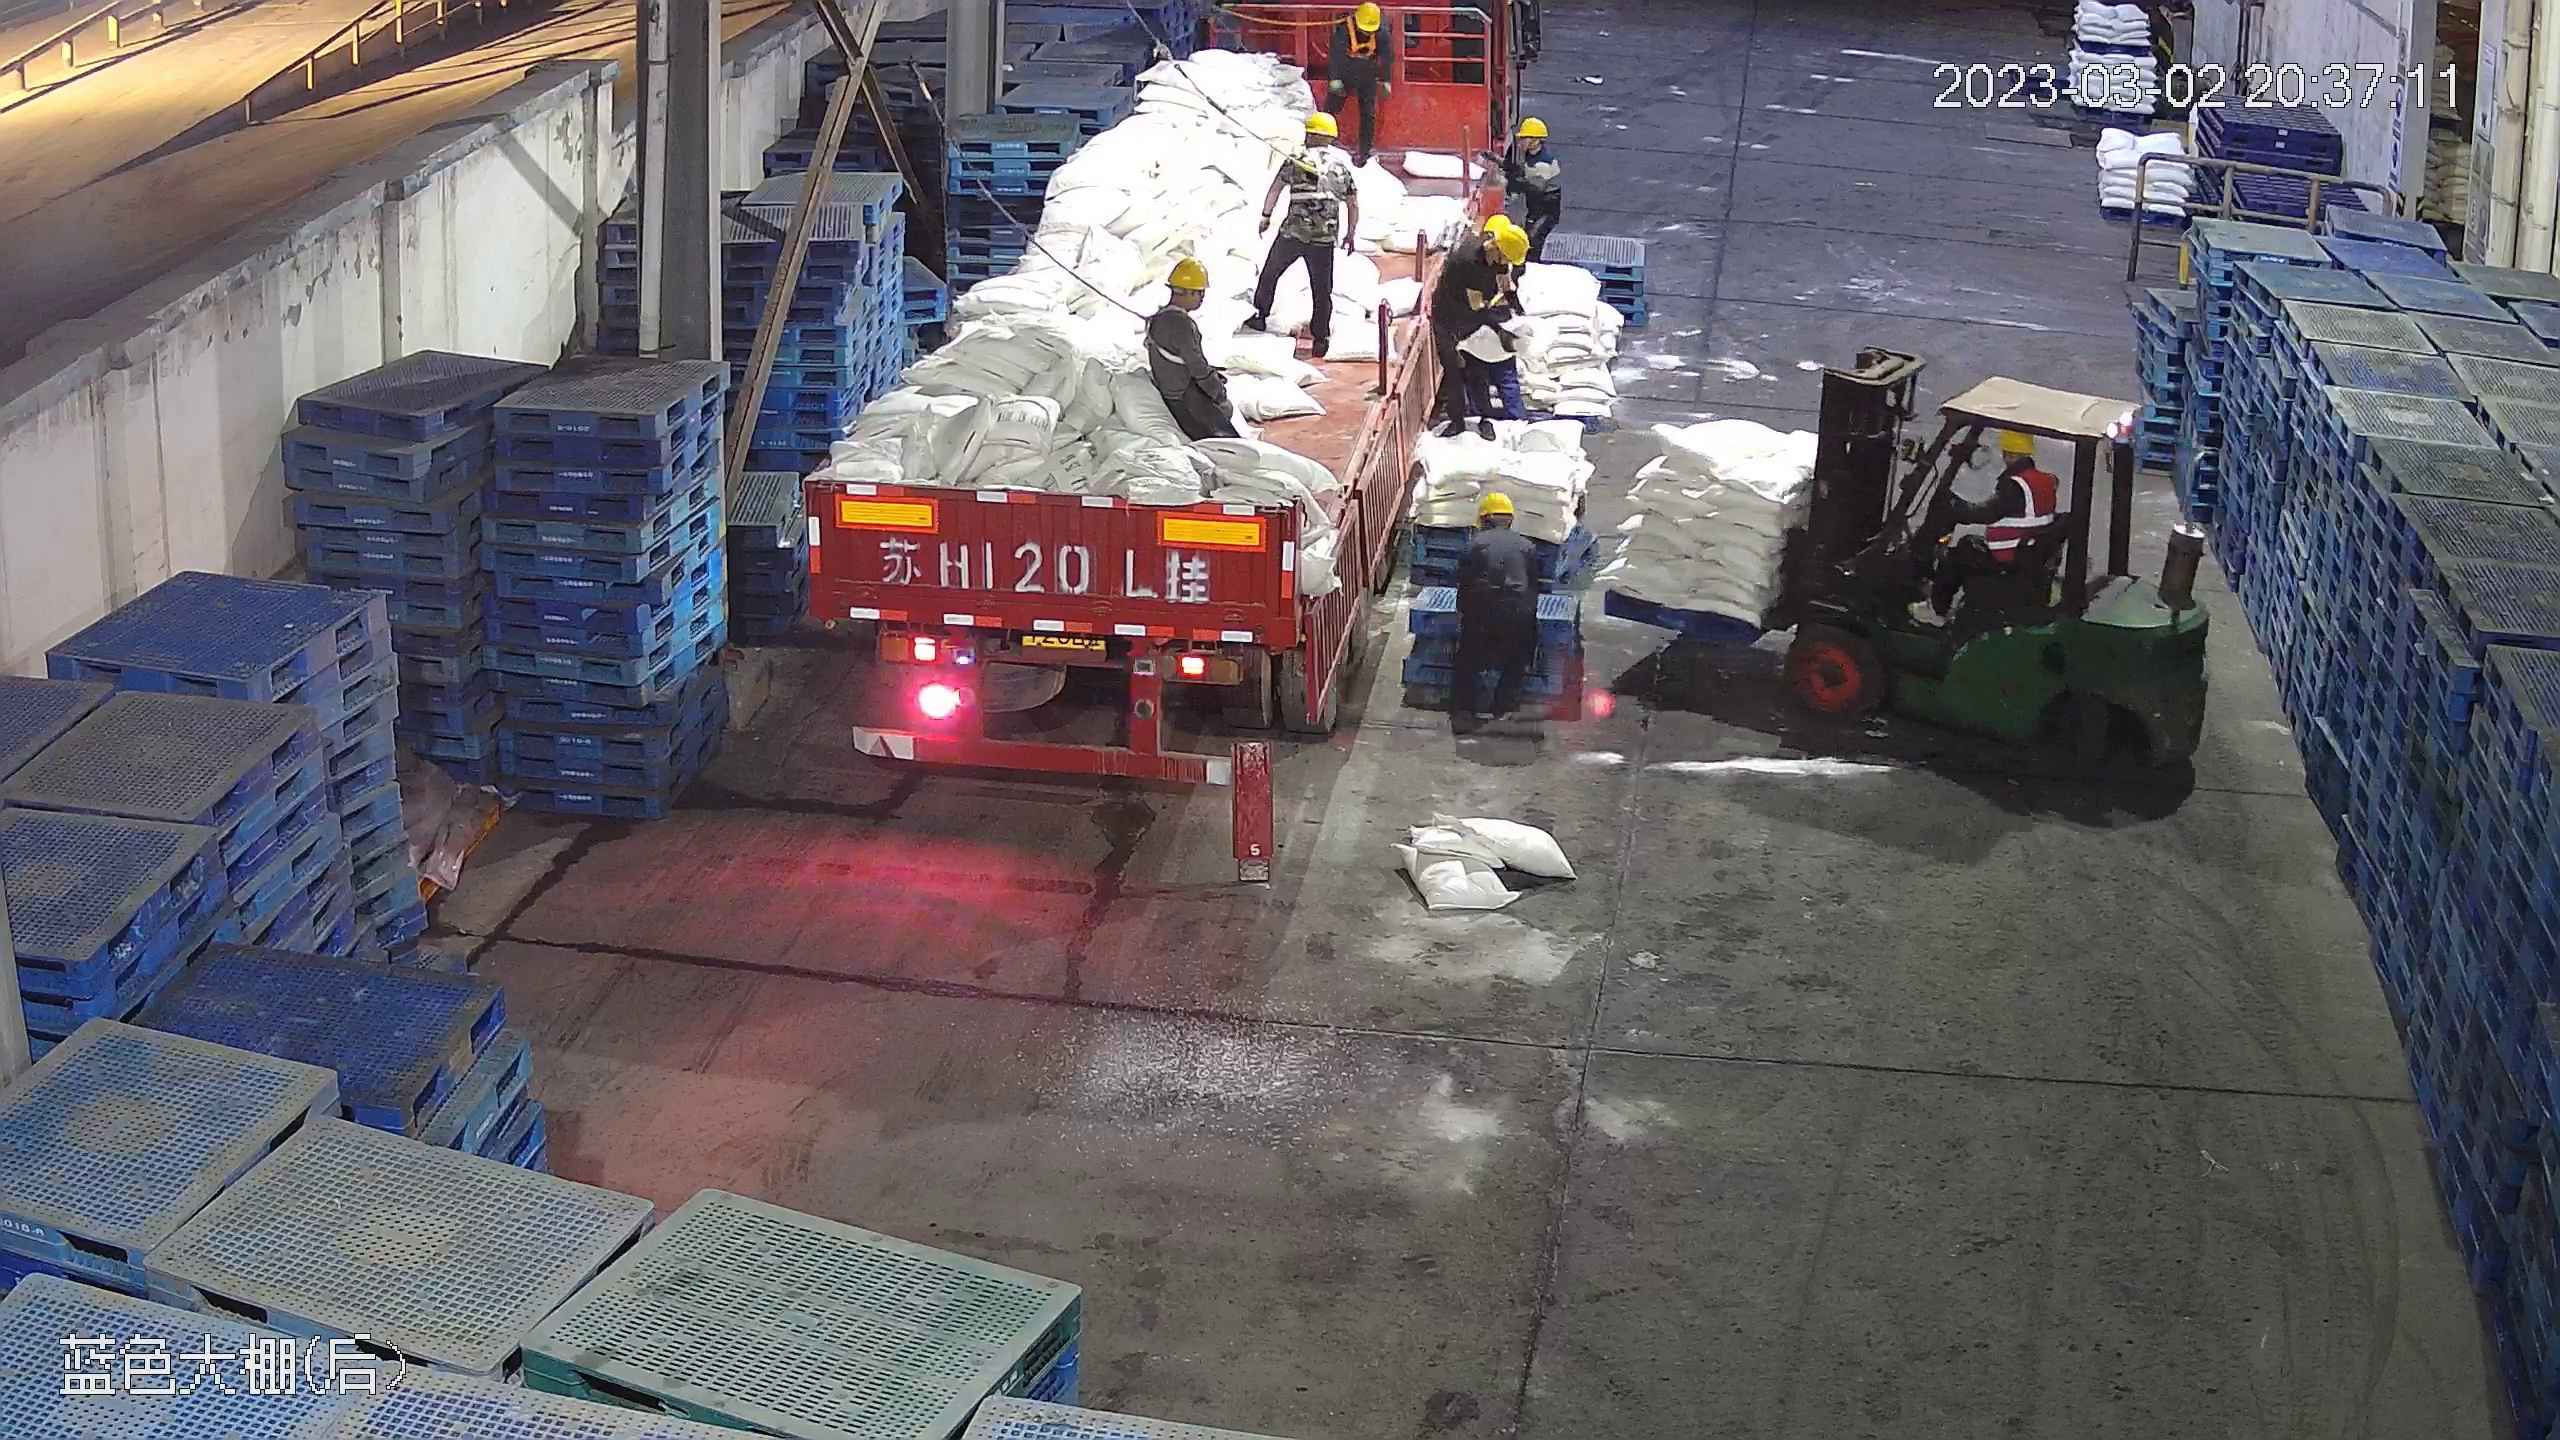belt: (1441, 242, 1507, 311), (1141, 303, 1194, 363), (1290, 153, 1346, 205), (1343, 19, 1377, 62)
head: (1442, 215, 1524, 293), (1146, 252, 1217, 341), (1461, 491, 1535, 569), (1983, 425, 2055, 507), (1276, 114, 1349, 187), (1504, 115, 1557, 177), (1330, 1, 1389, 49)
helmet: (1481, 214, 1530, 262), (1165, 252, 1213, 291), (1299, 102, 1346, 139), (1996, 425, 2038, 457), (1475, 489, 1515, 518), (1515, 116, 1551, 141), (1353, 1, 1383, 28)
people: (1425, 480, 1548, 745), (1244, 110, 1352, 347), (1925, 422, 2057, 612), (1425, 210, 1528, 441), (1139, 250, 1241, 443), (1315, 1, 1397, 165), (1494, 112, 1563, 280)
truck: (810, 15, 1485, 778)
